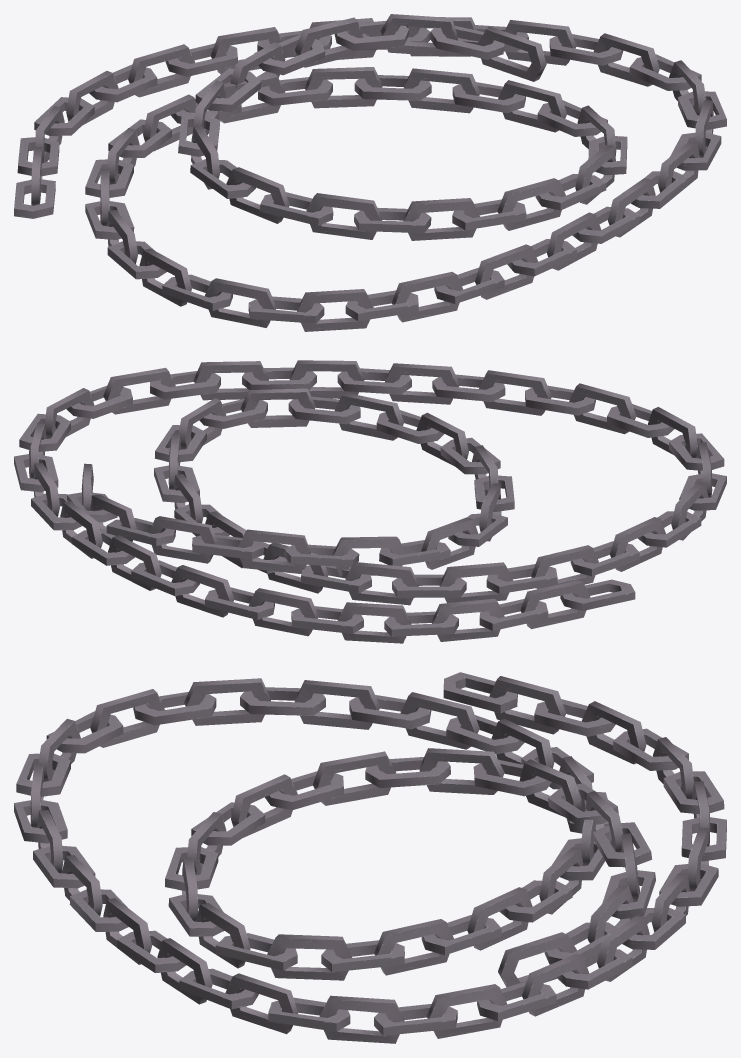
The model's file is chain-coil.glb.
3 views of the same model, one above another, from view 1: azimuth 30°, elevation 25°; view 2: azimuth 150°, elevation 25°; view 3: azimuth 270°, elevation 25° (orthographic). The views are drawn at different scales.
Parts seen in each view (by area): view 1: Chain_Coil; view 2: Chain_Coil; view 3: Chain_Coil.
Part boxes in pixels (box(x1,y1,x2,y2)): Chain_Coil: box(14, 14, 726, 331); Chain_Coil: box(14, 360, 726, 643); Chain_Coil: box(14, 672, 726, 1043).
Size of the model in its own units: 1.07 by 0.0871 by 0.9078.
1 material, 1 textured.
